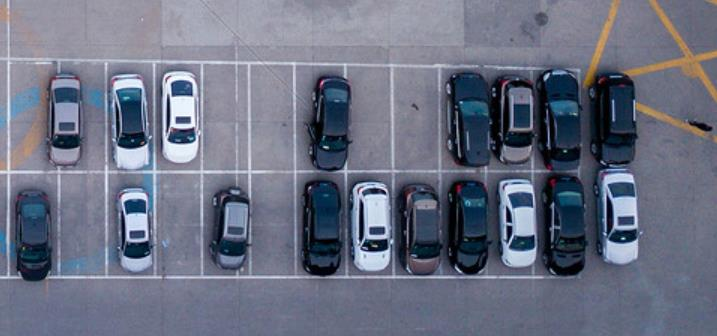car: (537, 67, 586, 176), (541, 173, 590, 280), (588, 71, 640, 169), (443, 67, 492, 168), (595, 168, 644, 266), (306, 73, 353, 172), (108, 71, 153, 171), (348, 179, 394, 275), (157, 67, 202, 165), (446, 177, 490, 277), (490, 72, 536, 167), (301, 178, 344, 277), (41, 71, 85, 167), (496, 173, 538, 271), (400, 181, 442, 277), (14, 187, 53, 283), (207, 186, 251, 270), (113, 185, 154, 275)
